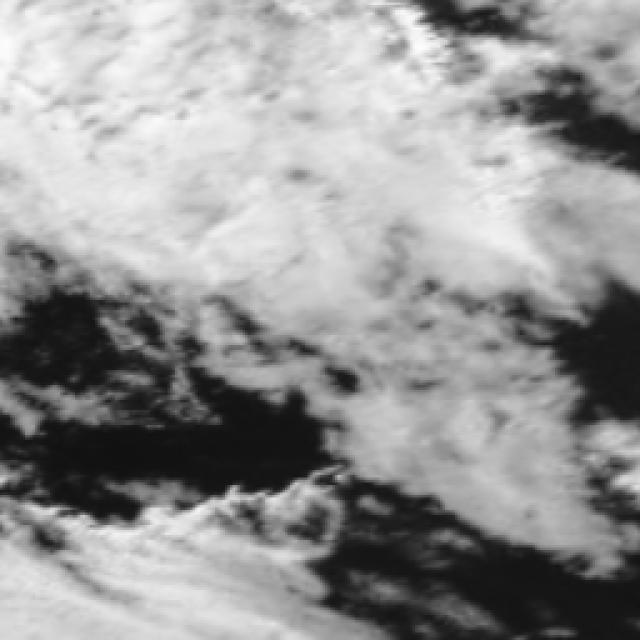CB: (9, 8, 399, 196)
